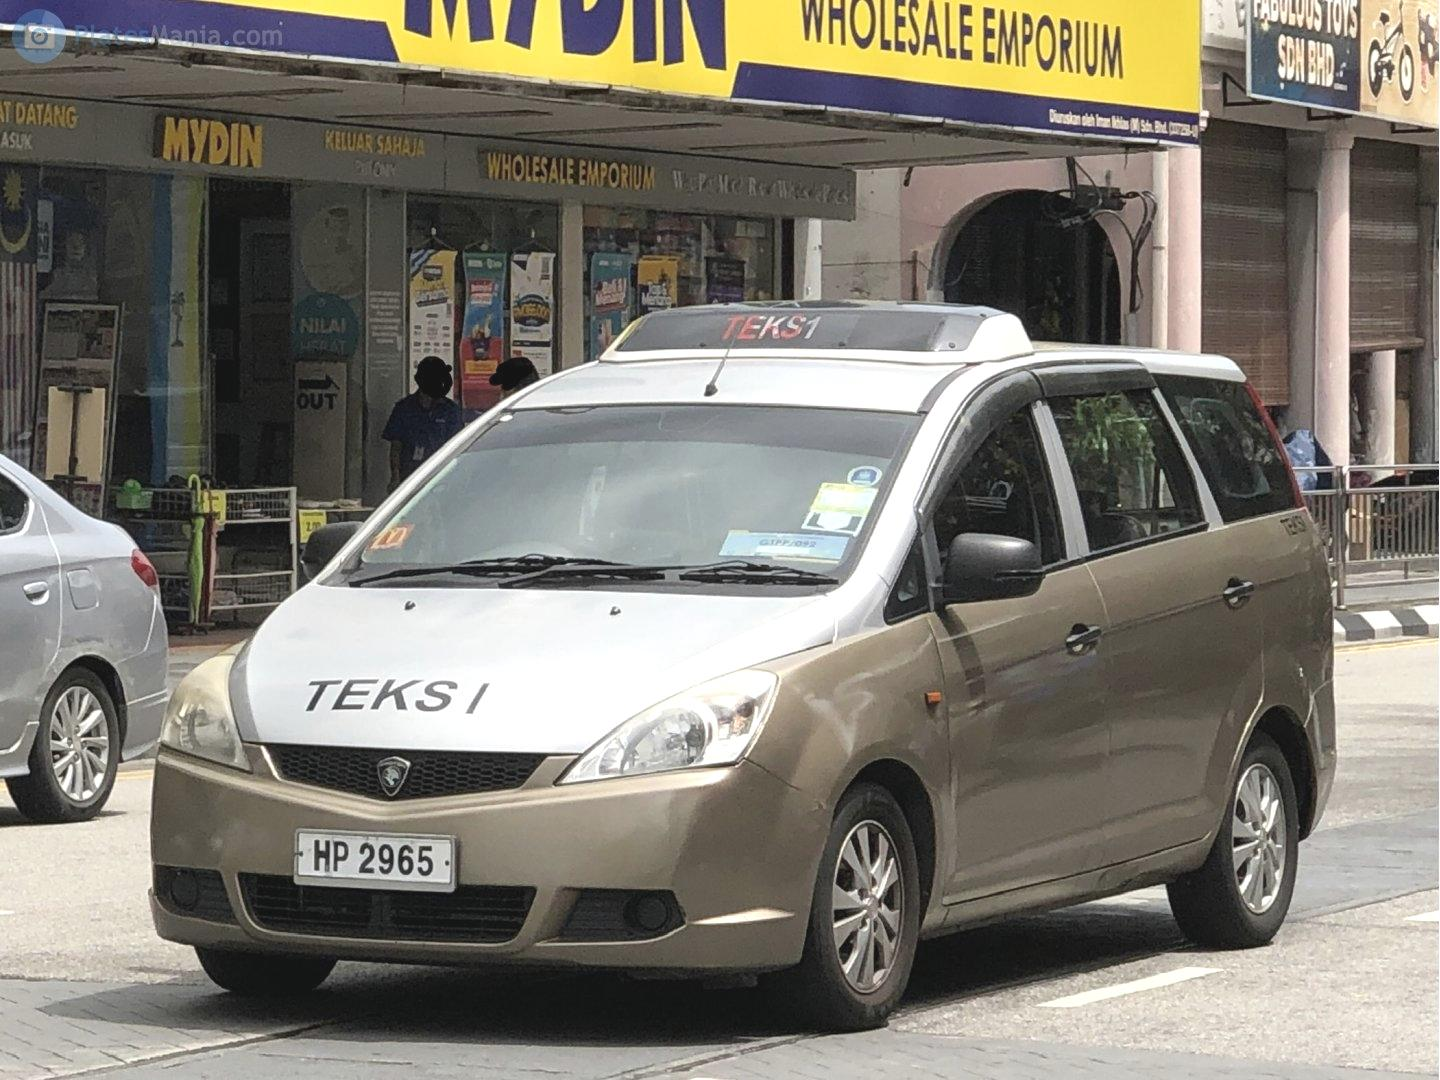License Plate: (299, 835, 453, 886)
